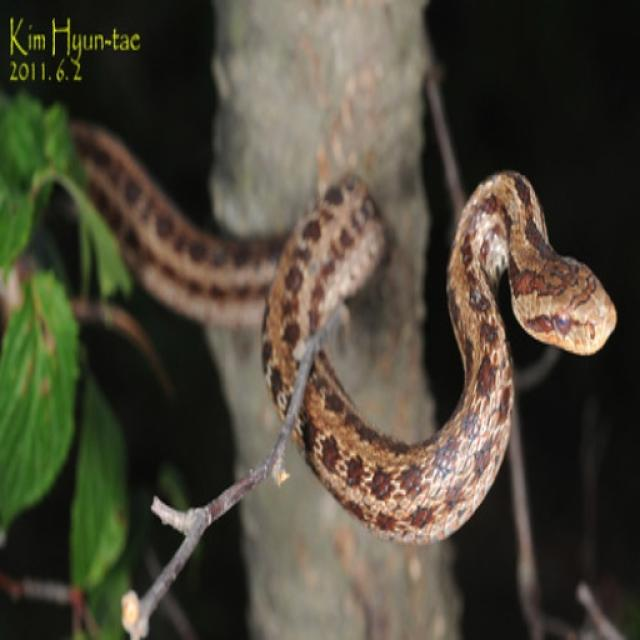snake: (34, 98, 625, 555)
